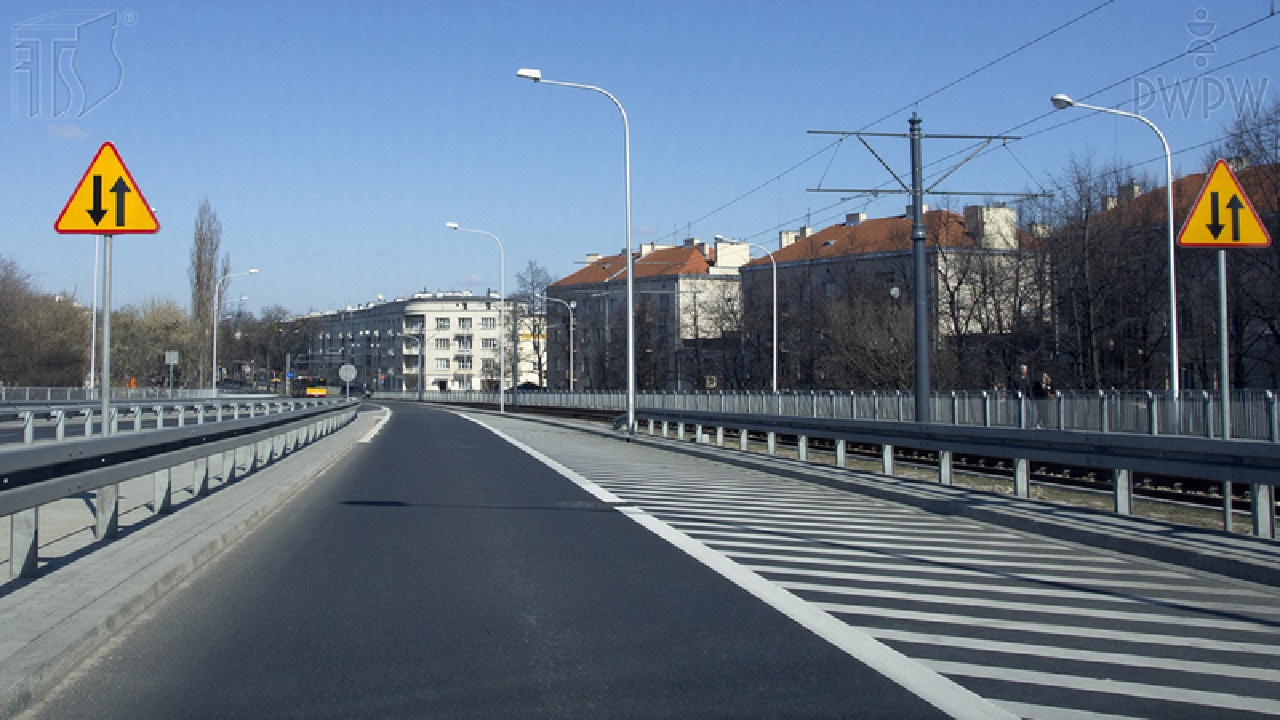A20: (54, 139, 162, 237), (1175, 157, 1273, 250)
